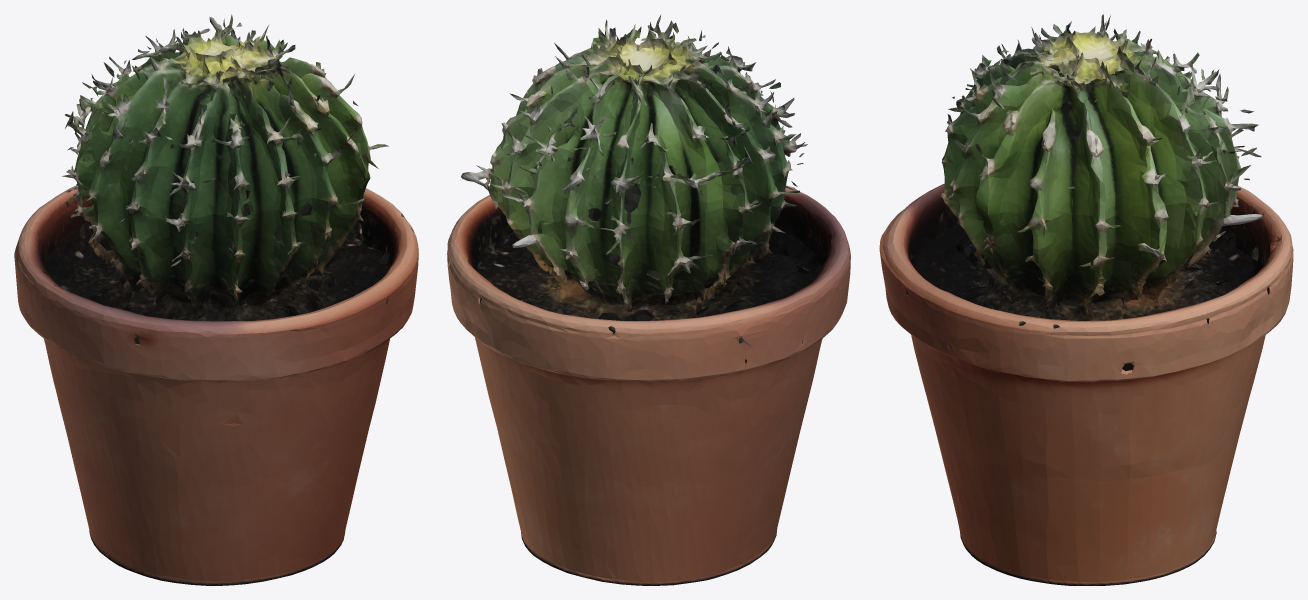
File: cactus.glb
3 views of the same model, side by side, from view 1: azimuth 30°, elevation 25°; view 2: azimuth 150°, elevation 25°; view 3: azimuth 270°, elevation 25° (orthographic).
Visible parts, largest first — view 1: world; view 2: world; view 3: world.
Part boxes in pixels (<box>): world: <box>14,14,418,585</box>; world: <box>447,14,850,585</box>; world: <box>879,14,1293,585</box>.
Size of the model in its own units: 0.739 by 0.9854 by 0.7469.
Materials: 1 (1 with a texture image).
